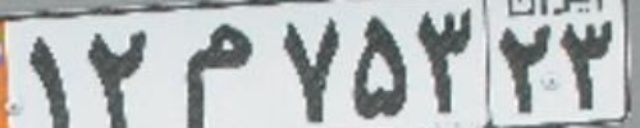1: (26, 36, 69, 127)
2: (85, 29, 145, 127), (499, 24, 549, 114)
3: (417, 8, 470, 113), (558, 20, 614, 111)
5: (354, 15, 407, 116)
7: (283, 17, 342, 121)
mim: (184, 24, 250, 127)
